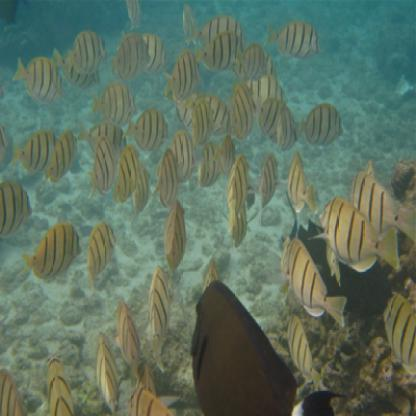Acanthuridae -Surgeonfishes-: (189, 279, 299, 415), (317, 194, 406, 276), (283, 238, 349, 331), (346, 169, 416, 239), (21, 222, 83, 286), (12, 51, 69, 109), (112, 299, 147, 387), (146, 266, 174, 374), (382, 289, 416, 374), (287, 314, 324, 392), (84, 223, 121, 300), (91, 330, 125, 413), (11, 130, 65, 176), (265, 21, 327, 61), (121, 107, 174, 153), (298, 104, 352, 148), (93, 80, 143, 127), (112, 142, 147, 209), (43, 351, 79, 416), (194, 32, 251, 73), (43, 129, 79, 190), (226, 155, 254, 232), (161, 199, 190, 273), (89, 133, 120, 202), (111, 29, 152, 79), (229, 79, 261, 143), (285, 151, 316, 215), (165, 50, 201, 104), (67, 29, 108, 75), (154, 149, 181, 209), (275, 104, 302, 154), (127, 389, 174, 416)
